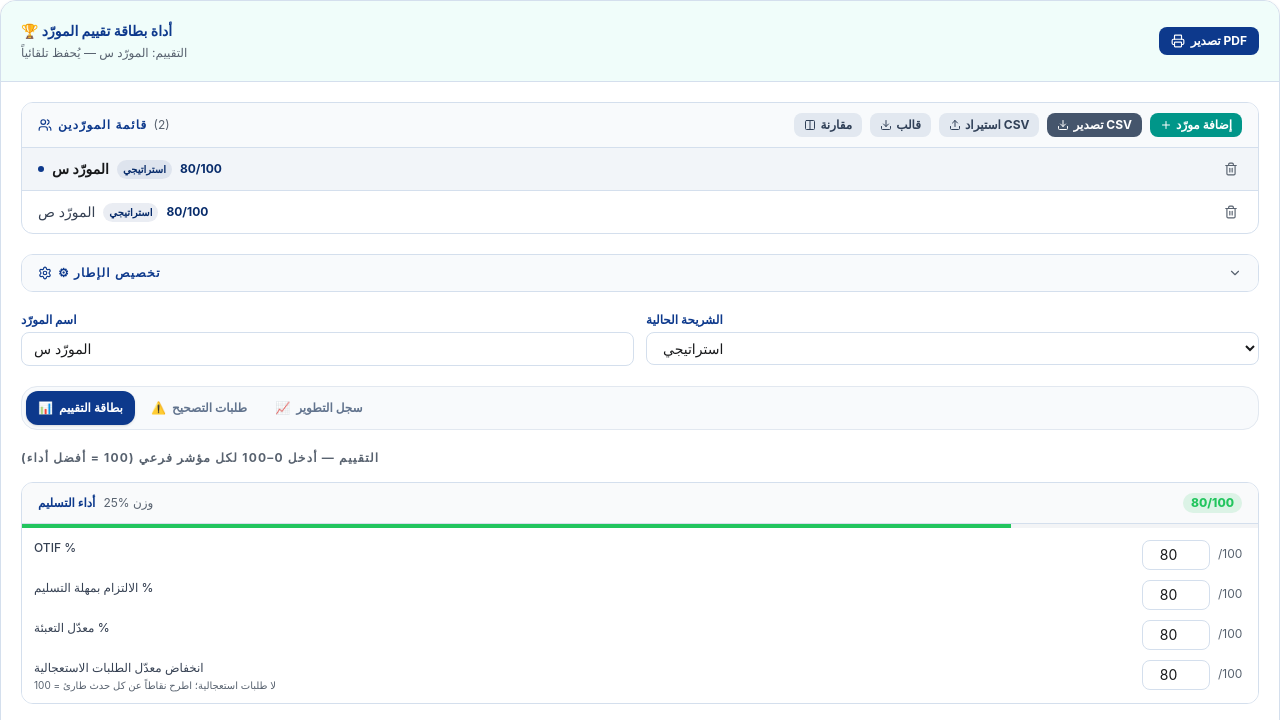
Test case: Compare view — Arabic weighted score footer winner › shows "تعادل" in the footer winner cell when both suppliers have the same weighted score
What coordinates should you click on to do the following:
click the button "مقارنة"
I would click on:
 (828, 125)
Its box is top-left (794, 113), bottom-right (862, 137).
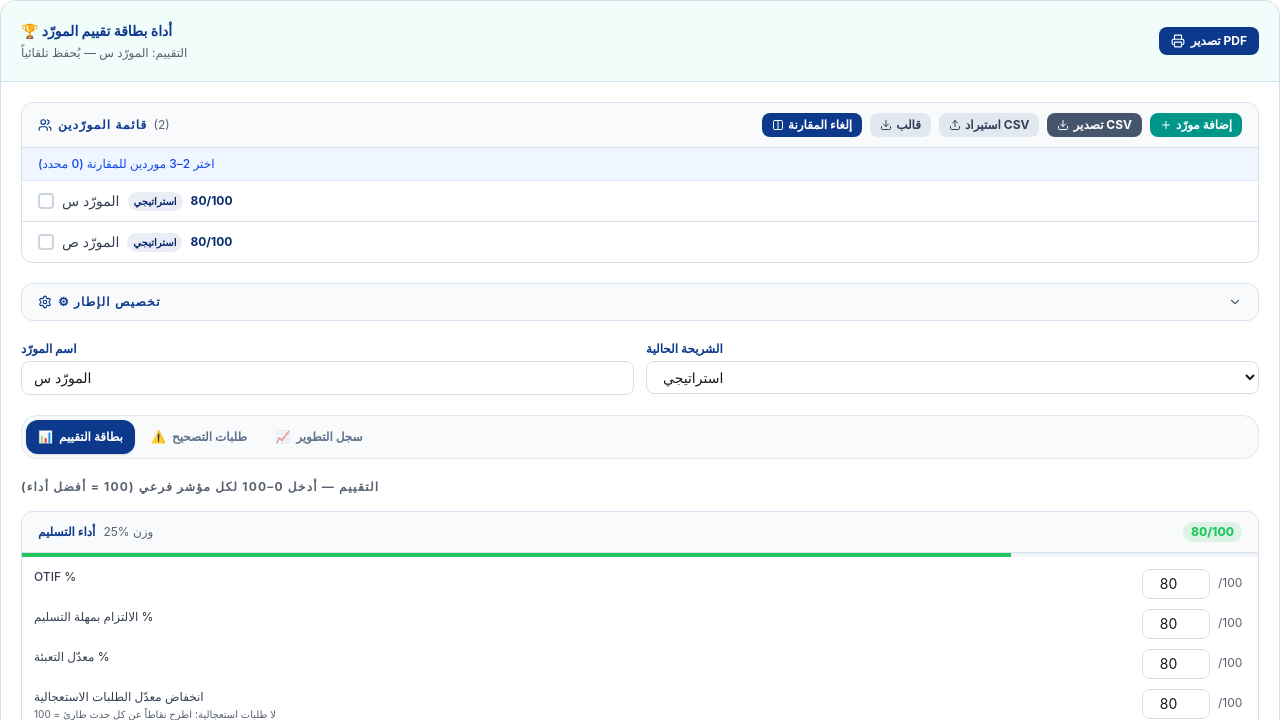
What coordinates should you click on to do the following:
click the text "المورّد س"
I would click on:
 (91, 201)
Its box is top-left (62, 191), bottom-right (120, 211).
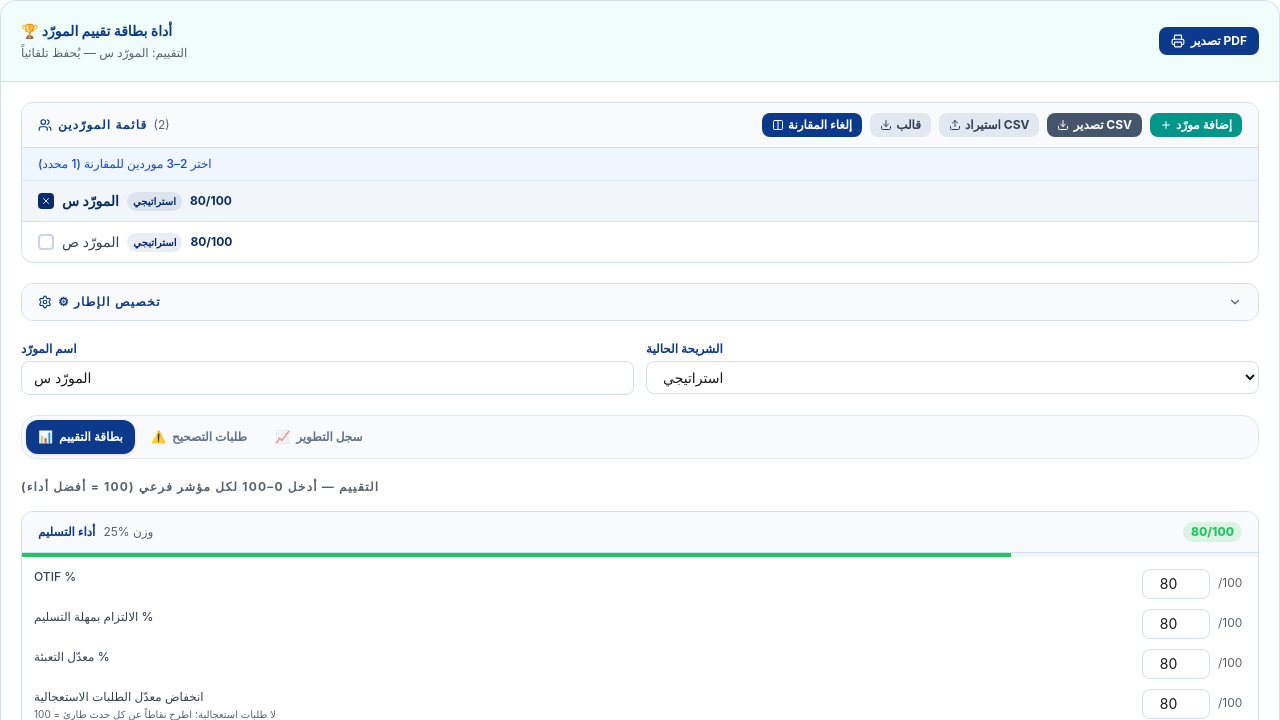
What coordinates should you click on to do the following:
click the text "المورّد ص"
I would click on:
 (91, 242)
Its box is top-left (62, 232), bottom-right (119, 252).
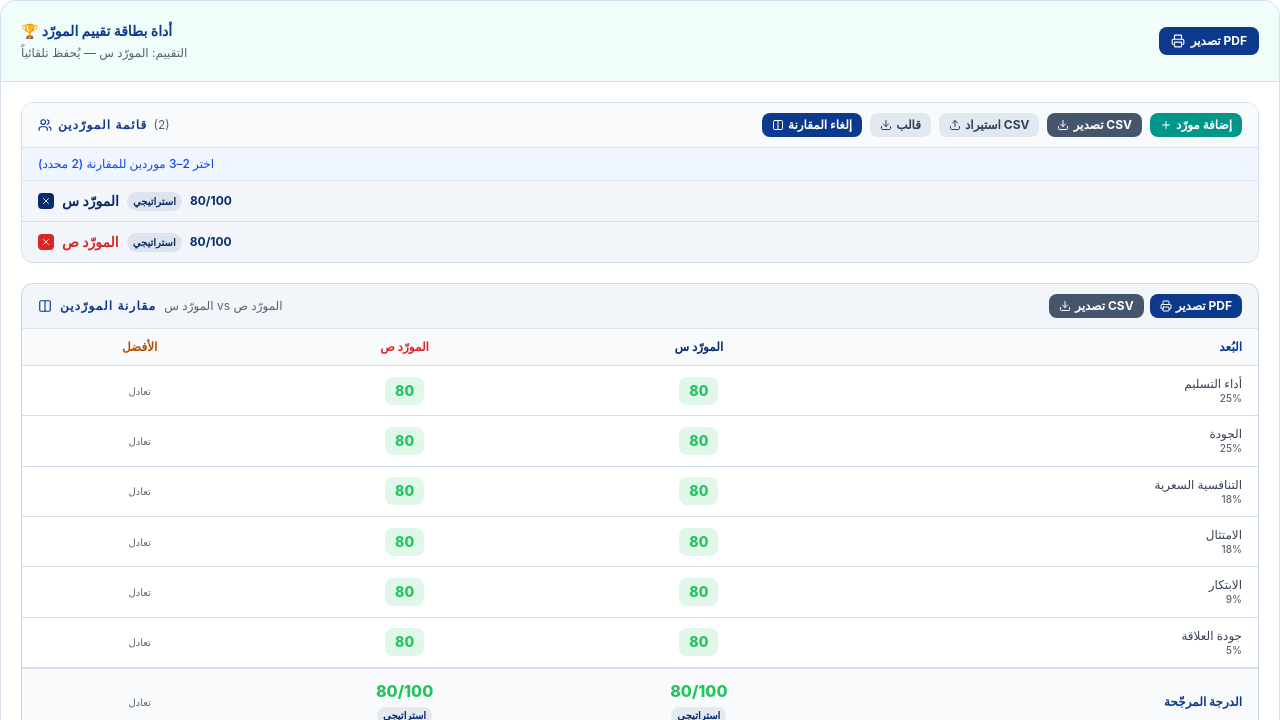
Check: the 7th text "تعادل" is shown, box top-left (128, 696), bottom-right (151, 708)
